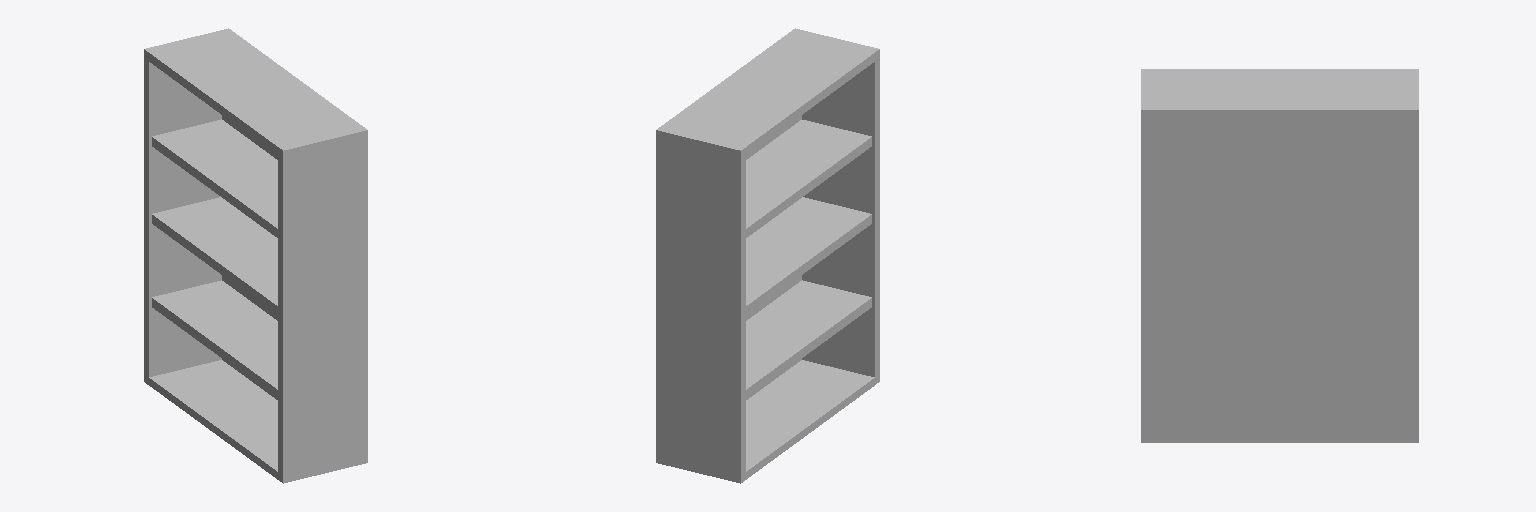
Rendered from Bookshelf.obj.
The picture shows the model from 3 angles: view 1: azimuth 30°, elevation 25°; view 2: azimuth 150°, elevation 25°; view 3: azimuth 270°, elevation 25°; orthographic projection.
Parts seen in each view (by area): view 1: Cube.003_Cube, Plane.002, Plane, Plane.001; view 2: Cube.003_Cube, Plane.002, Plane, Plane.001; view 3: Cube.003_Cube.
Part boxes in pixels (x1,y1,x2,y2): Cube.003_Cube: (144, 28, 367, 483); Plane.002: (152, 119, 277, 237); Plane: (152, 280, 277, 398); Plane.001: (152, 197, 277, 315); Cube.003_Cube: (656, 28, 879, 483); Plane.002: (746, 120, 871, 237); Plane: (746, 280, 871, 398); Plane.001: (746, 197, 871, 315); Cube.003_Cube: (1141, 69, 1418, 442).
Size of the model in its own units: 1.88 by 7.02 by 5.32.